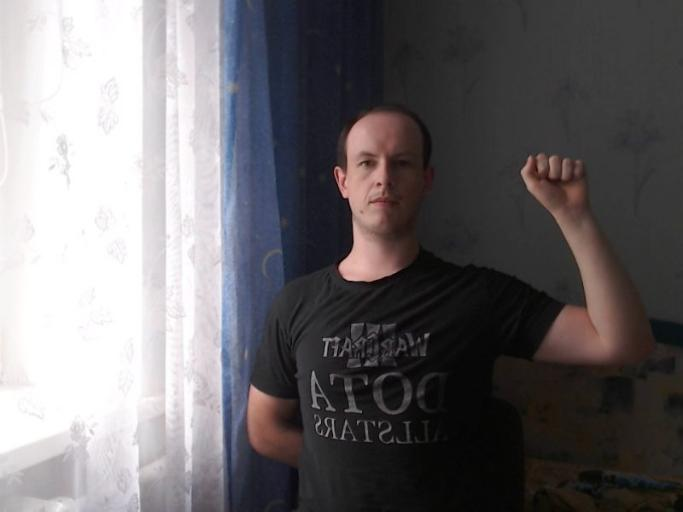fist: (512, 148, 596, 218)
